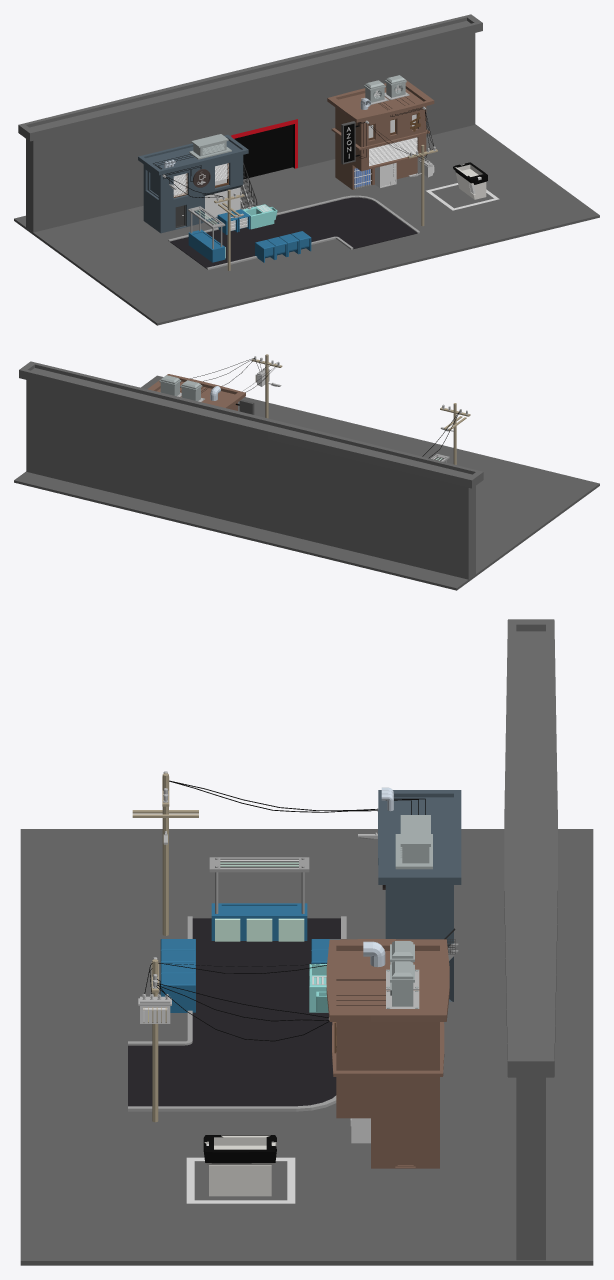
3 renders of one model, top to bottom at view 1: azimuth 30°, elevation 25°; view 2: azimuth 150°, elevation 25°; view 3: azimuth 270°, elevation 25°, orthographic. The views are drawn at different scales.
Visible parts, largest first — view 1: Muralla_1, Plano Principal, Edificio_2, Edificio_1, Calle_1, Caneca_Blanca, Acera_1_Calle_1, Persiana_Ed1, Base_Estacion_Secado, Aire_Acondicionado_3_Ed2, Señal_Luz_1_Ed1, Sink_Base (+3 smaller); view 2: Muralla_1, Plano Principal, Edificio_1, Poste_Luz_2, Poste_Luz_1, Aire_Acondicionado_2_Ed1, Aire_Acondicionado_1_Ed1; view 3: Plano Principal, Muralla_1, Calle_1, Edificio_1, Edificio_2, Caneca_Blanca, Base_Estacion_Secado, Acera_1_Calle_1, Aire_Acondicionado_3_Ed2, Poste_Luz_2, Poste_Luz_1, Plane.009 (+5 smaller).
Part boxes in pixels (x1,y1,x2,y2): Muralla_1: (18,14,482,232); Plano Principal: (14,124,599,325); Edificio_2: (138,134,248,233); Edificio_1: (327,80,434,189); Calle_1: (170,197,417,268); Caneca_Blanca: (453,162,487,199); Acera_1_Calle_1: (168,195,419,269); Persiana_Ed1: (369,137,417,166); Base_Estacion_Secado: (188,229,225,262); Aire_Acondicionado_3_Ed2: (189,134,231,159); Señal_Luz_1_Ed1: (341,121,359,164); Sink_Base: (242,204,277,229); Muralla_1: (19,361,483,579); Plano Principal: (14,375,599,590); Edificio_1: (147,374,245,410); Poste_Luz_2: (251,354,282,418); Poste_Luz_1: (440,403,470,464); Aire_Acondicionado_2_Ed1: (159,375,181,396); Aire_Acondicionado_1_Ed1: (180,380,202,401); Plano Principal: (20,829,593,1265); Muralla_1: (504,619,557,1260); Calle_1: (128,918,340,1106); Edificio_1: (326,939,449,1168); Edificio_2: (378,790,461,1001); Caneca_Blanca: (203,1135,276,1196); Base_Estacion_Secado: (211,903,307,941); Acera_1_Calle_1: (128,916,346,1111); Aire_Acondicionado_3_Ed2: (395,815,432,869); Poste_Luz_2: (138,959,171,1122); Poste_Luz_1: (132,773,198,935); Plane.009: (186,1157,295,1203).
Bounding box in the file's own units: 7036 × 1551 × 3853.
